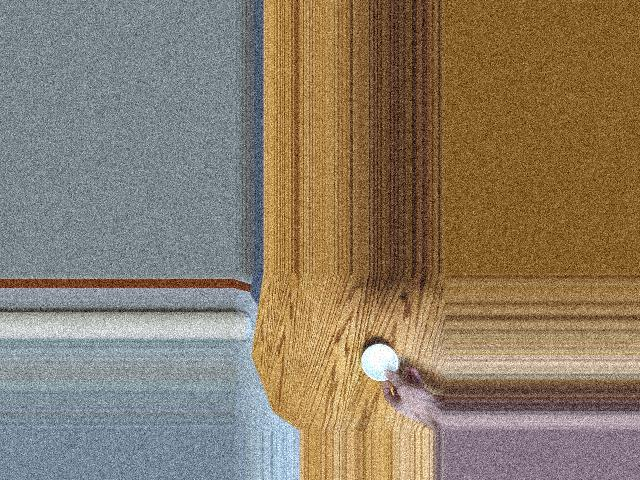cotage: (361, 345, 402, 385)
